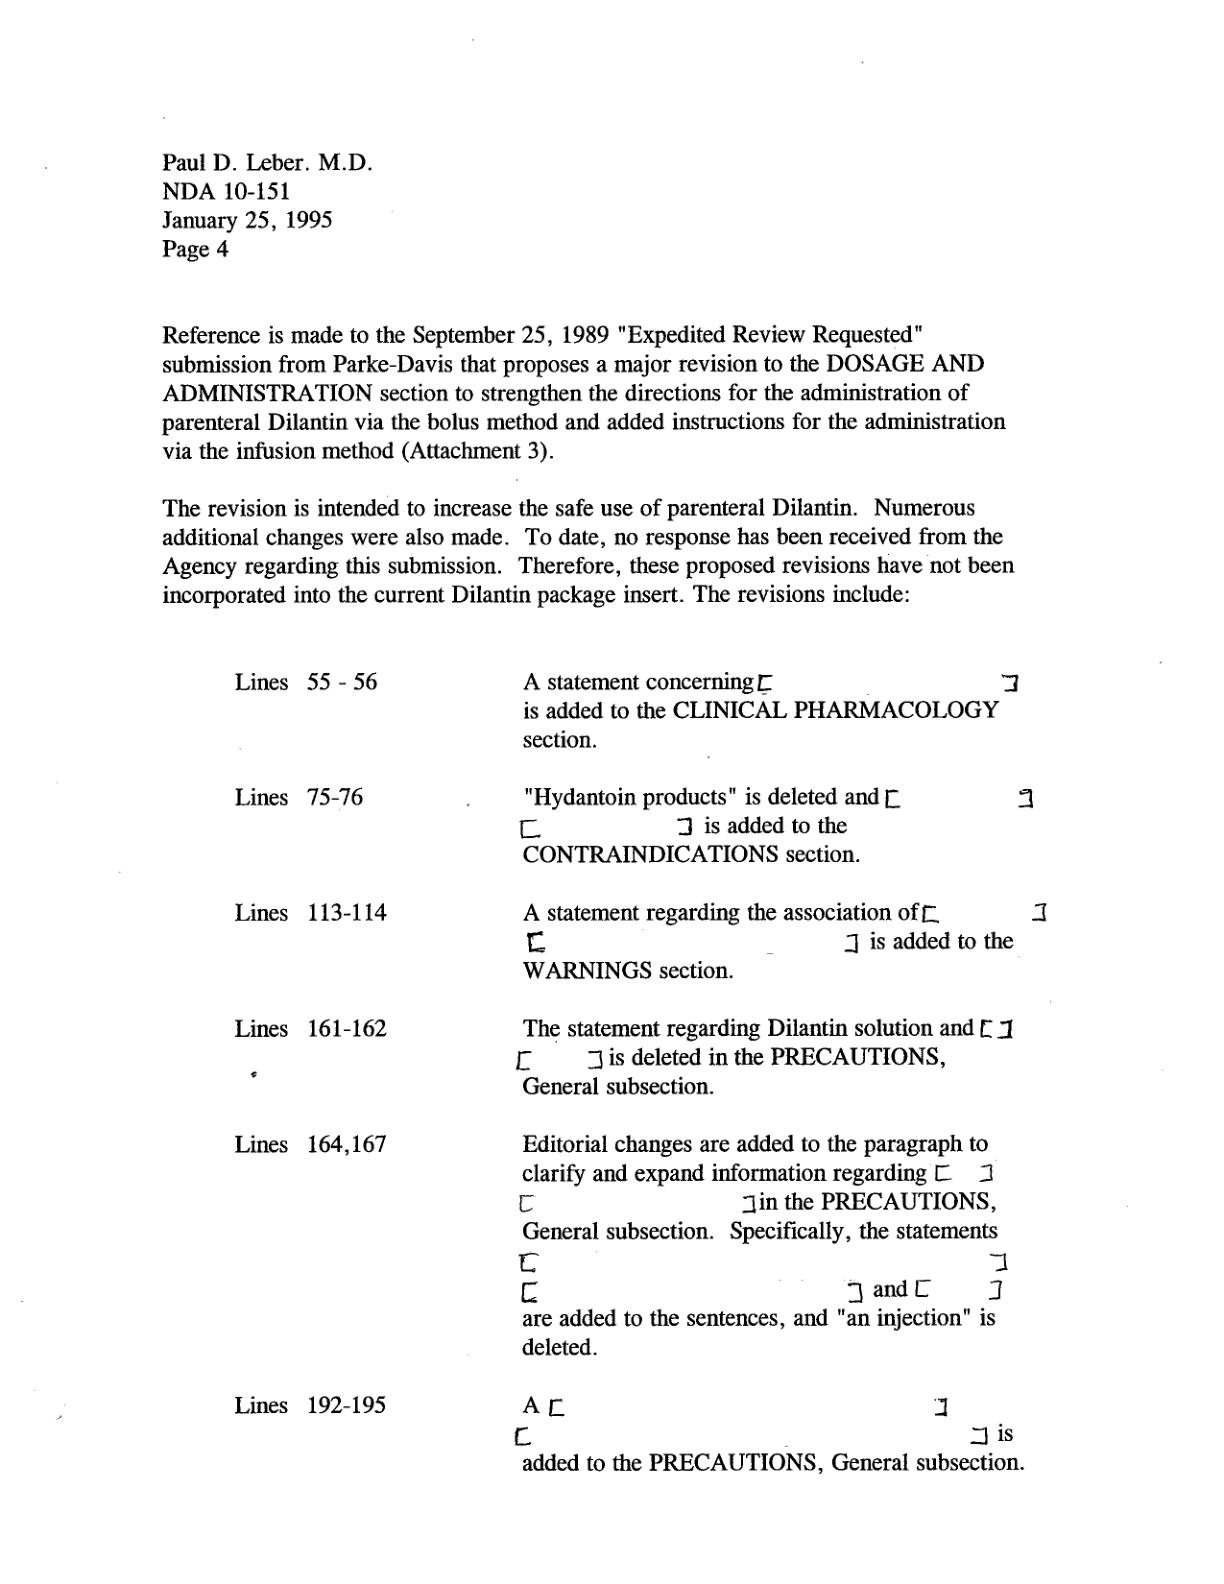nolines: (224, 667, 1031, 1477)
